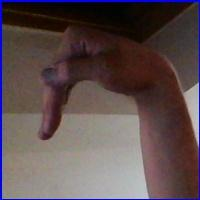A: (35, 24, 174, 154)
